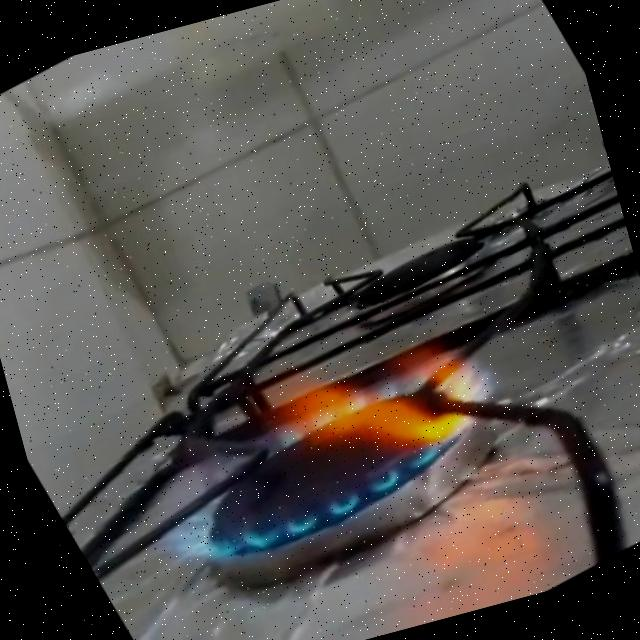fire: (62, 259, 545, 629)
